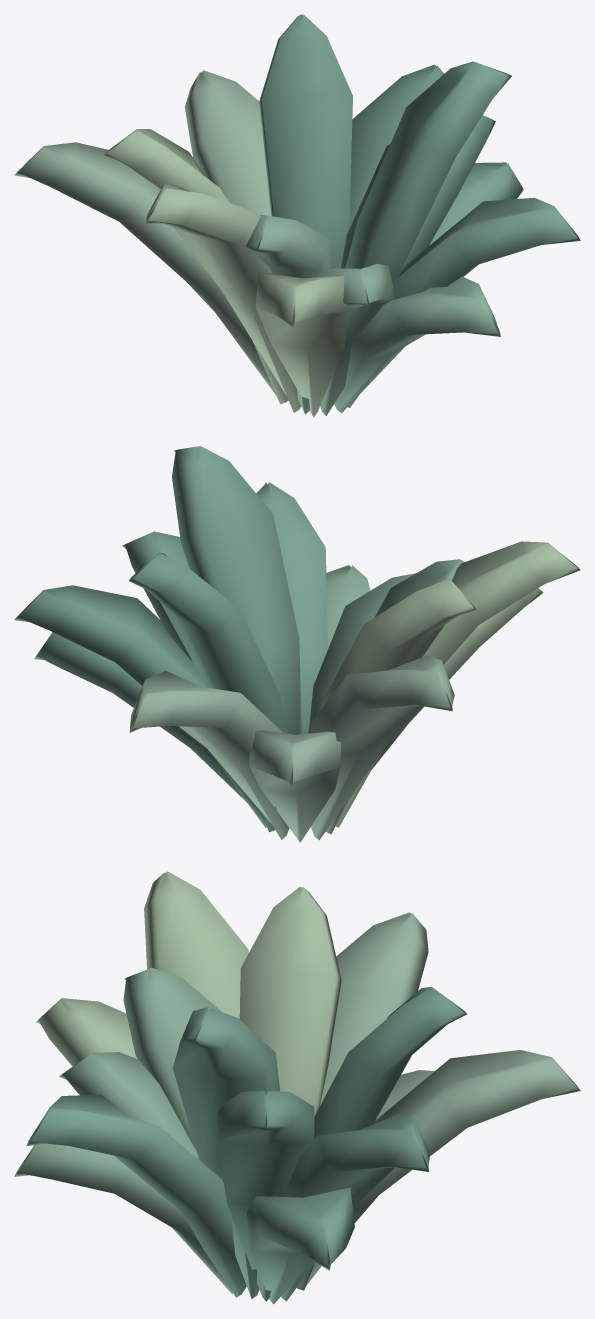
File: hero-rosette.glb
The picture shows the model from 3 angles, top to bottom: view 1: azimuth 30°, elevation 25°; view 2: azimuth 150°, elevation 25°; view 3: azimuth 270°, elevation 25°; orthographic projection. The views are drawn at different scales.
Parts seen in each view (by area): view 1: Succulent keeled leaf.010, Succulent keeled leaf.008, Succulent keeled leaf.012, Succulent keeled leaf.009, Succulent keeled leaf.014, Succulent keeled leaf.003, Succulent keeled leaf.002, Succulent keeled leaf.011, Succulent keeled leaf.005, Succulent keeled leaf.004, Succulent keeled leaf.001, Succulent keeled leaf.006 (+2 smaller); view 2: Succulent keeled leaf.008, Succulent keeled leaf.010, Succulent keeled leaf.012, Succulent keeled leaf.005, Succulent keeled leaf.002, Succulent keeled leaf.009, Succulent keeled leaf.003, Succulent keeled leaf.007, Succulent keeled leaf.004, Succulent keeled leaf.013, Succulent keeled leaf.006, Succulent keeled leaf (+3 smaller); view 3: Succulent keeled leaf.004, Succulent keeled leaf.003, Succulent keeled leaf.002, Succulent keeled leaf.008, Succulent keeled leaf, Succulent keeled leaf.009, Succulent keeled leaf.010, Succulent keeled leaf.012, Succulent keeled leaf.013, Succulent keeled leaf.005, Succulent keeled leaf.001, Succulent keeled leaf.011 (+3 smaller).
Part boxes in pixels (x1=…): Succulent keeled leaf.010: x1=259, y1=14, x2=352, y2=268; Succulent keeled leaf.008: x1=345, y1=61, x2=511, y2=281; Succulent keeled leaf.012: x1=14, y1=142, x2=275, y2=394; Succulent keeled leaf.009: x1=145, y1=181, x2=301, y2=412; Succulent keeled leaf.014: x1=256, y1=271, x2=346, y2=417; Succulent keeled leaf.003: x1=348, y1=197, x2=580, y2=407; Succulent keeled leaf.002: x1=184, y1=70, x2=271, y2=217; Succulent keeled leaf.011: x1=334, y1=276, x2=500, y2=413; Succulent keeled leaf.005: x1=347, y1=64, x2=443, y2=233; Succulent keeled leaf.004: x1=102, y1=129, x2=288, y2=404; Succulent keeled leaf.001: x1=245, y1=215, x2=333, y2=414; Succulent keeled leaf.006: x1=314, y1=263, x2=395, y2=415; Succulent keeled leaf.008: x1=172, y1=446, x2=301, y2=734; Succulent keeled leaf.010: x1=129, y1=552, x2=287, y2=832; Succulent keeled leaf.012: x1=310, y1=655, x2=454, y2=840; Succulent keeled leaf.005: x1=14, y1=585, x2=266, y2=827; Succulent keeled leaf.002: x1=129, y1=670, x2=289, y2=839; Succulent keeled leaf.009: x1=335, y1=541, x2=580, y2=827; Succulent keeled leaf.003: x1=256, y1=482, x2=327, y2=734; Succulent keeled leaf.007: x1=249, y1=730, x2=341, y2=842; Succulent keeled leaf.004: x1=320, y1=577, x2=476, y2=834; Succulent keeled leaf.013: x1=34, y1=632, x2=246, y2=802; Succulent keeled leaf.006: x1=308, y1=573, x2=416, y2=733; Succulent keeled leaf: x1=122, y1=531, x2=192, y2=661; Succulent keeled leaf.004: x1=239, y1=887, x2=341, y2=1116; Succulent keeled leaf.003: x1=26, y1=1094, x2=246, y2=1297; Succulent keeled leaf.002: x1=306, y1=1050, x2=580, y2=1285; Succulent keeled leaf.008: x1=172, y1=1007, x2=279, y2=1298; Succulent keeled leaf: x1=218, y1=1091, x2=314, y2=1301; Succulent keeled leaf.009: x1=144, y1=871, x2=248, y2=1018; Succulent keeled leaf.010: x1=297, y1=986, x2=467, y2=1290; Succulent keeled leaf.012: x1=320, y1=912, x2=428, y2=1105; Succulent keeled leaf.013: x1=247, y1=1187, x2=354, y2=1304; Succulent keeled leaf.005: x1=281, y1=1114, x2=430, y2=1301; Succulent keeled leaf.001: x1=123, y1=967, x2=221, y2=1149; Succulent keeled leaf.011: x1=14, y1=1143, x2=232, y2=1293.
Size of the model in its own units: 0.0705 by 0.048 by 0.0706.
